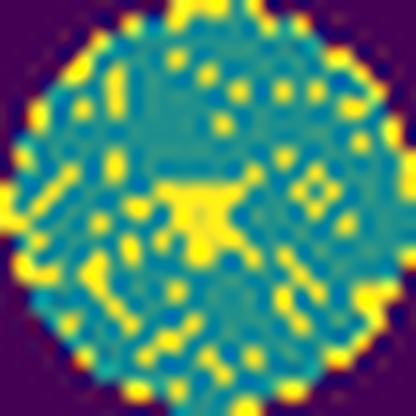Center: (125, 154, 268, 274)
